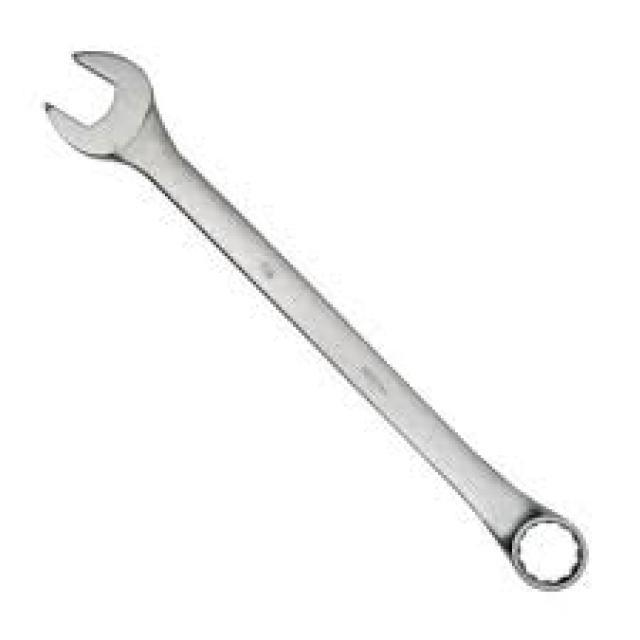wrench: (32, 40, 600, 604)
